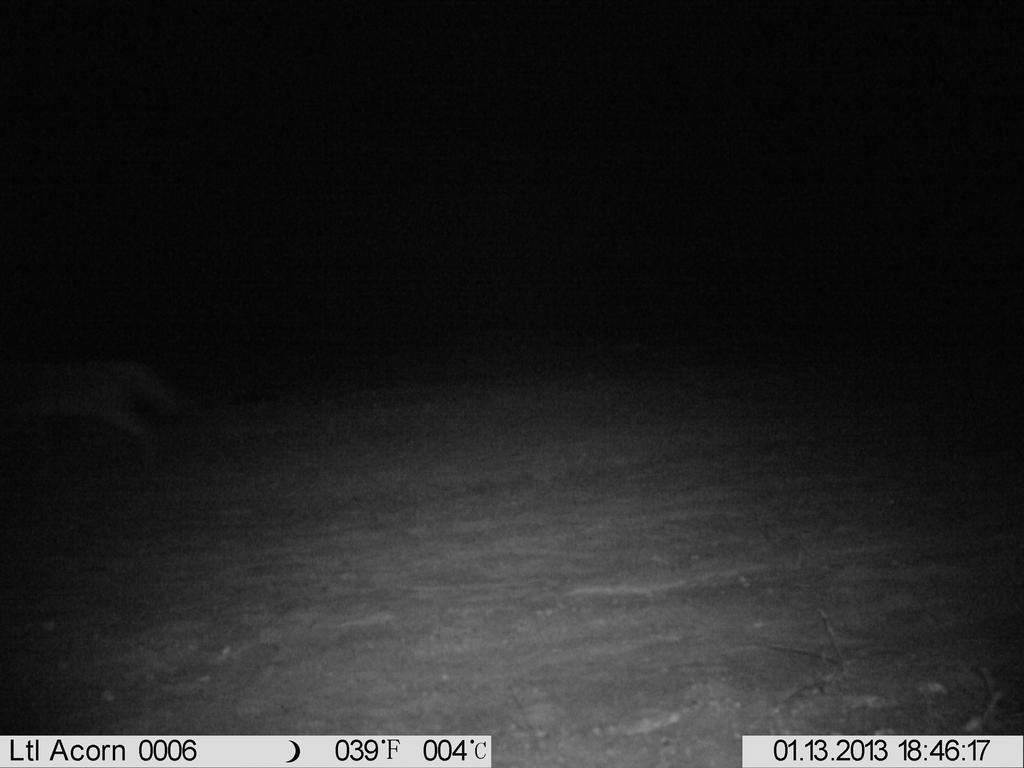coyote: (9, 331, 176, 474)
